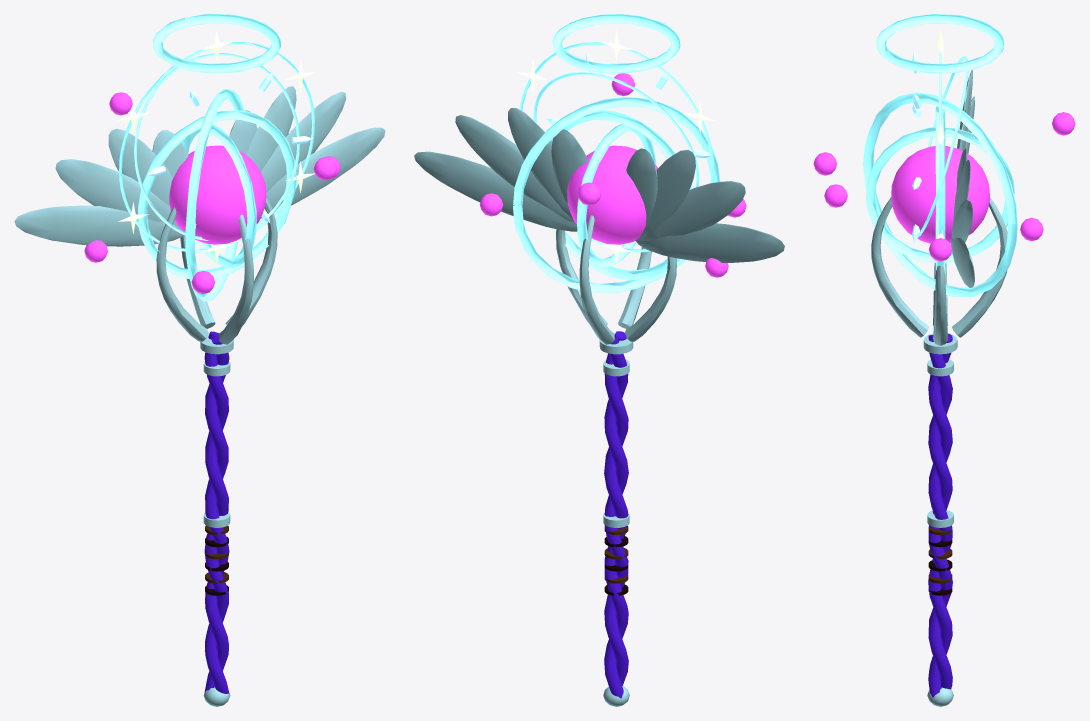
Rendered from mage_staff.glb.
3 views of the same model, side by side, from view 1: azimuth 30°, elevation 25°; view 2: azimuth 150°, elevation 25°; view 3: azimuth 270°, elevation 25° (orthographic).
Parts seen in each view (by area): view 1: Divine_staff; view 2: Divine_staff; view 3: Divine_staff.
Boxes of the visible parts, x1,y1,x2,y2 form: Divine_staff: (14, 14, 385, 706); Divine_staff: (414, 14, 784, 706); Divine_staff: (813, 14, 1075, 706).
Bounding box in the file's own units: 1.15 × 2.01 × 0.7051.
